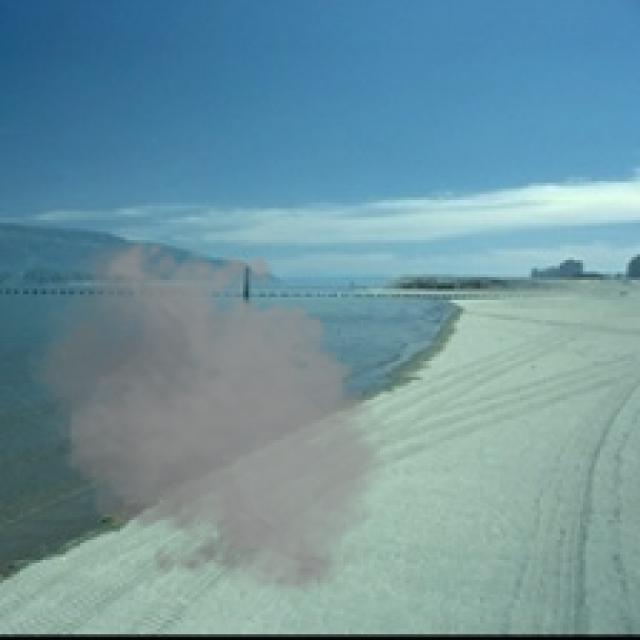smoke: (14, 229, 397, 600)
